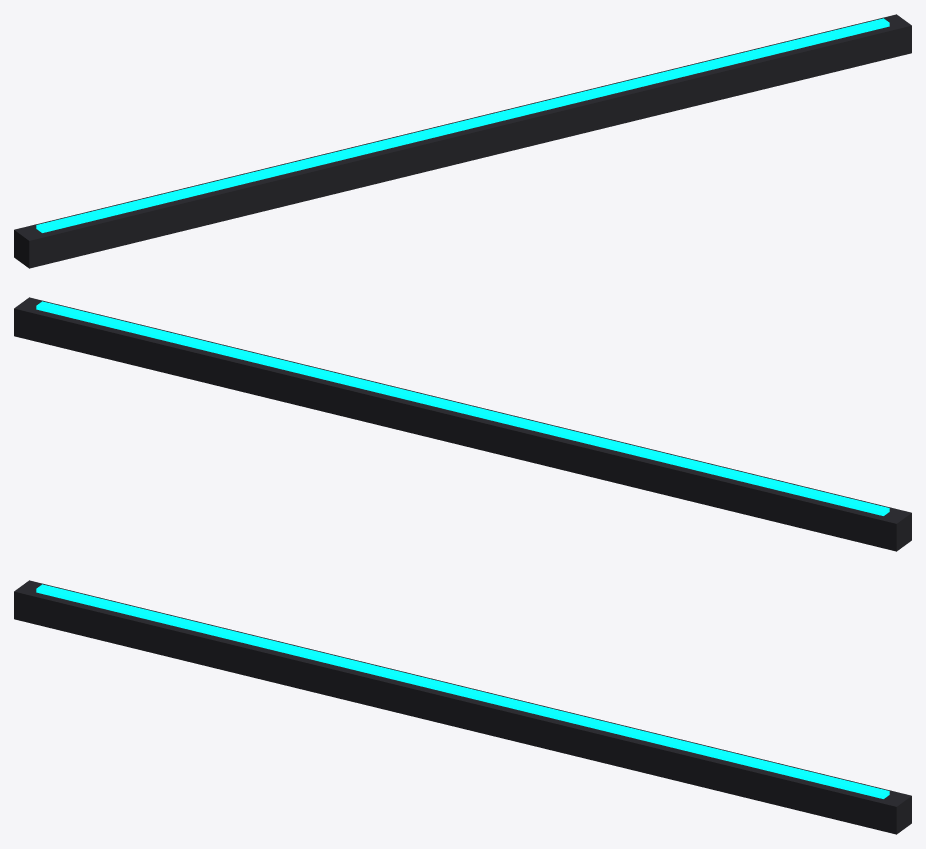
Rendered from Build_Rail.fbx.
The picture shows the model from 3 angles, top to bottom: view 1: azimuth 30°, elevation 25°; view 2: azimuth 150°, elevation 25°; view 3: azimuth 330°, elevation 25°; orthographic projection.
Parts seen in each view (by area): view 1: Rail_Beam, Rail_Stripe; view 2: Rail_Beam, Rail_Stripe; view 3: Rail_Beam, Rail_Stripe.
Part boxes in pixels (x1,y1,x2,y2): Rail_Beam: (14, 14, 911, 268); Rail_Stripe: (36, 18, 889, 232); Rail_Beam: (14, 297, 911, 551); Rail_Stripe: (36, 301, 889, 515); Rail_Beam: (14, 580, 911, 834); Rail_Stripe: (36, 584, 889, 798).
Bounding box in the file's own units: 1 × 0.034 × 0.03.
